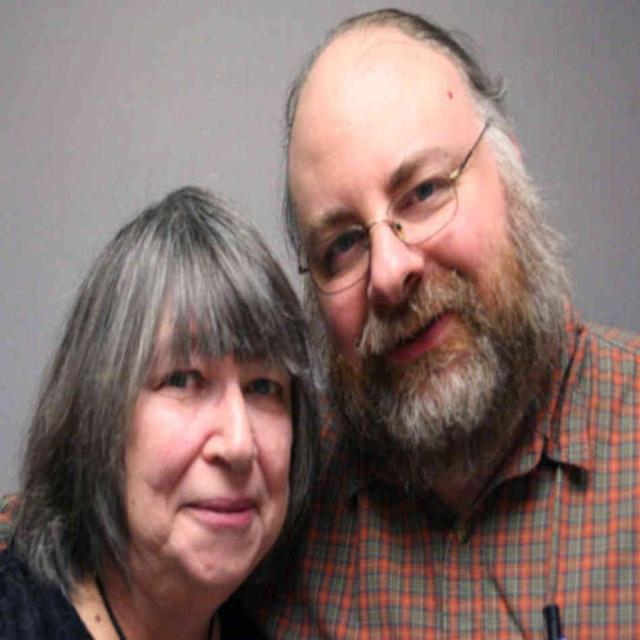Face: (289, 36, 522, 442), (116, 289, 304, 586)
